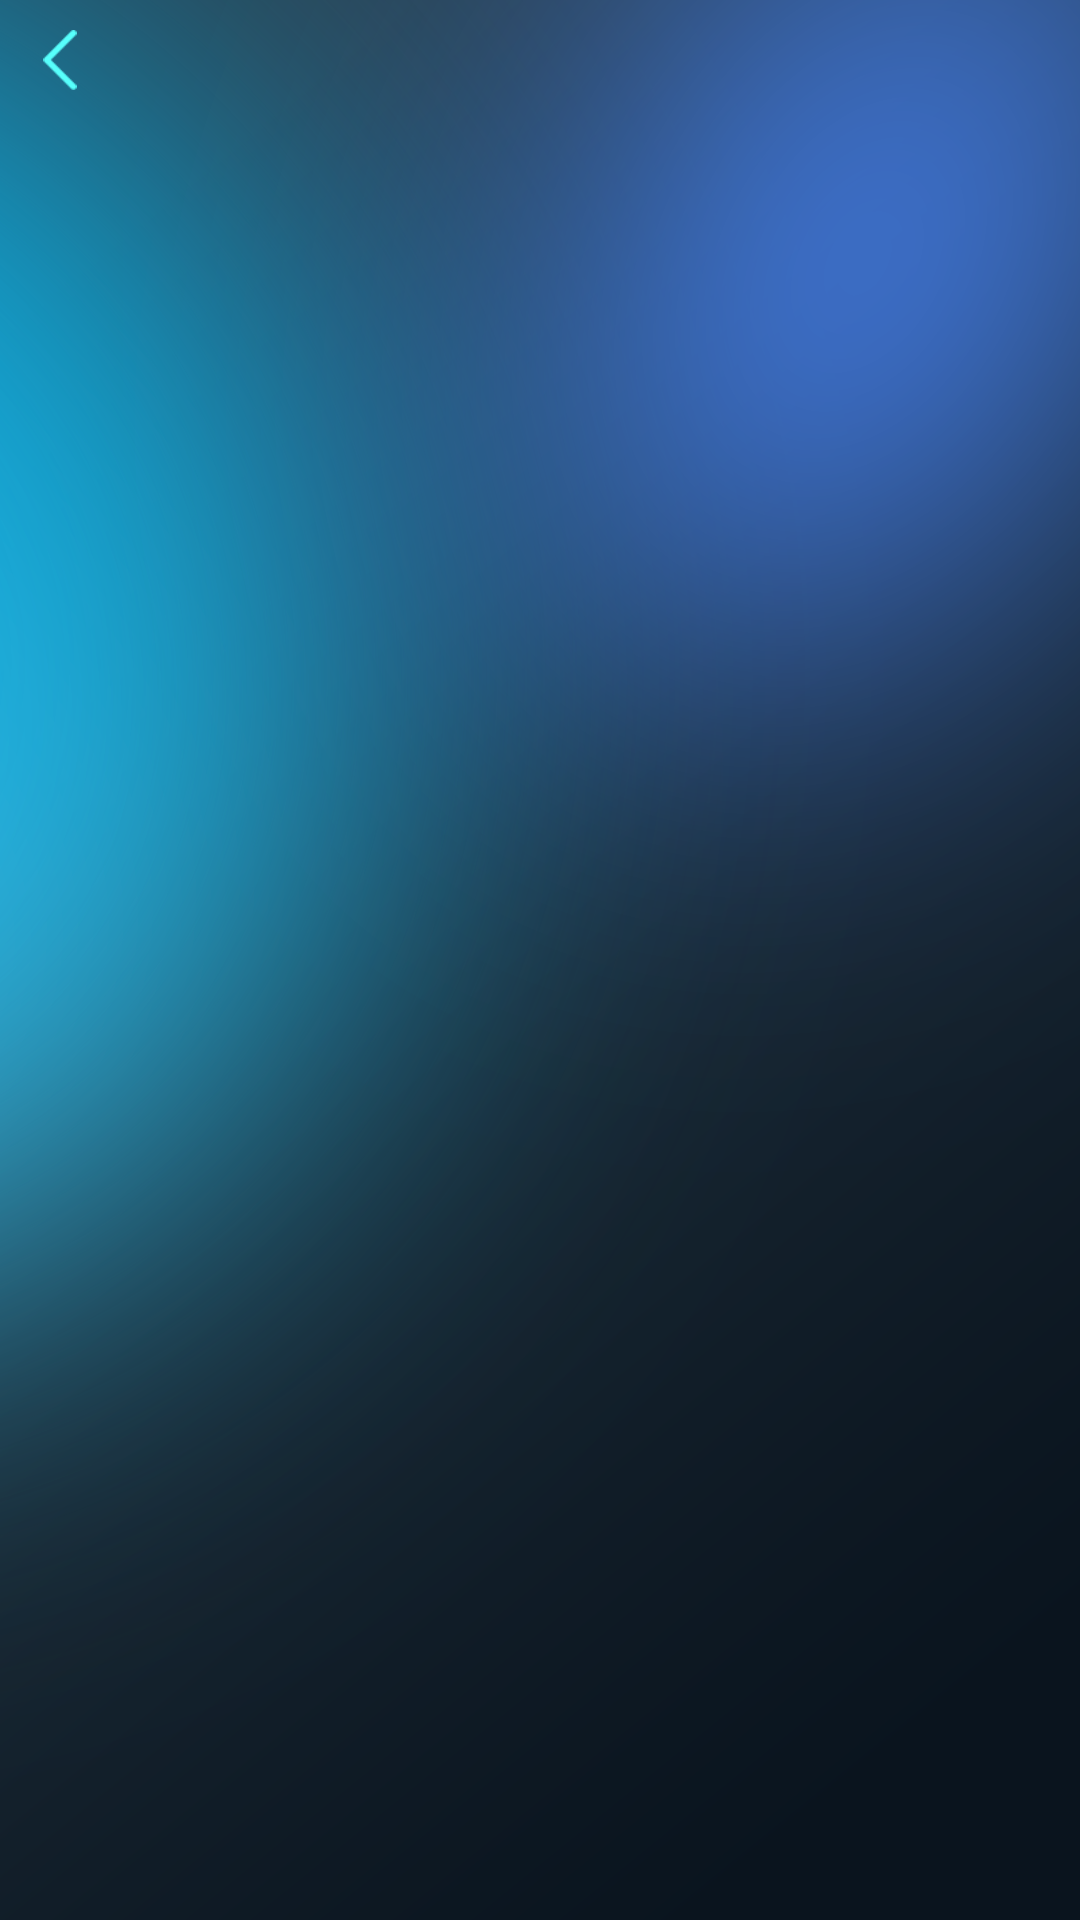

Icon click points for this 1080 × 1920 phone screenshot, format (x,y):
back: (60,60)
